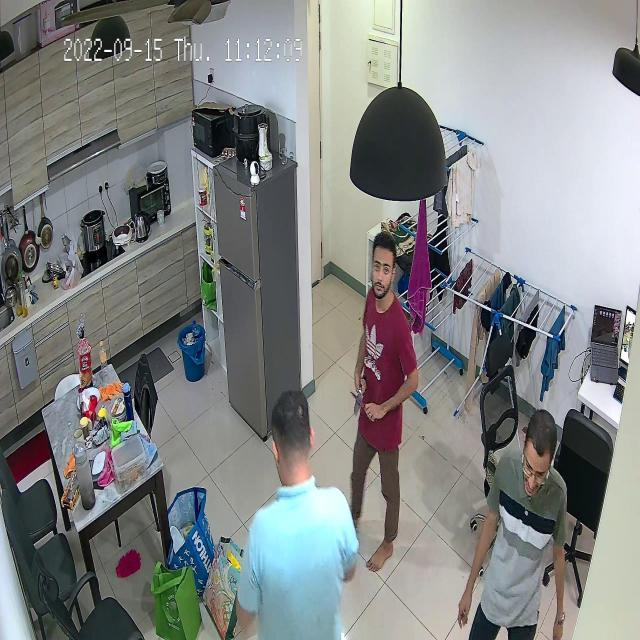Knife: (343, 388, 367, 418)
